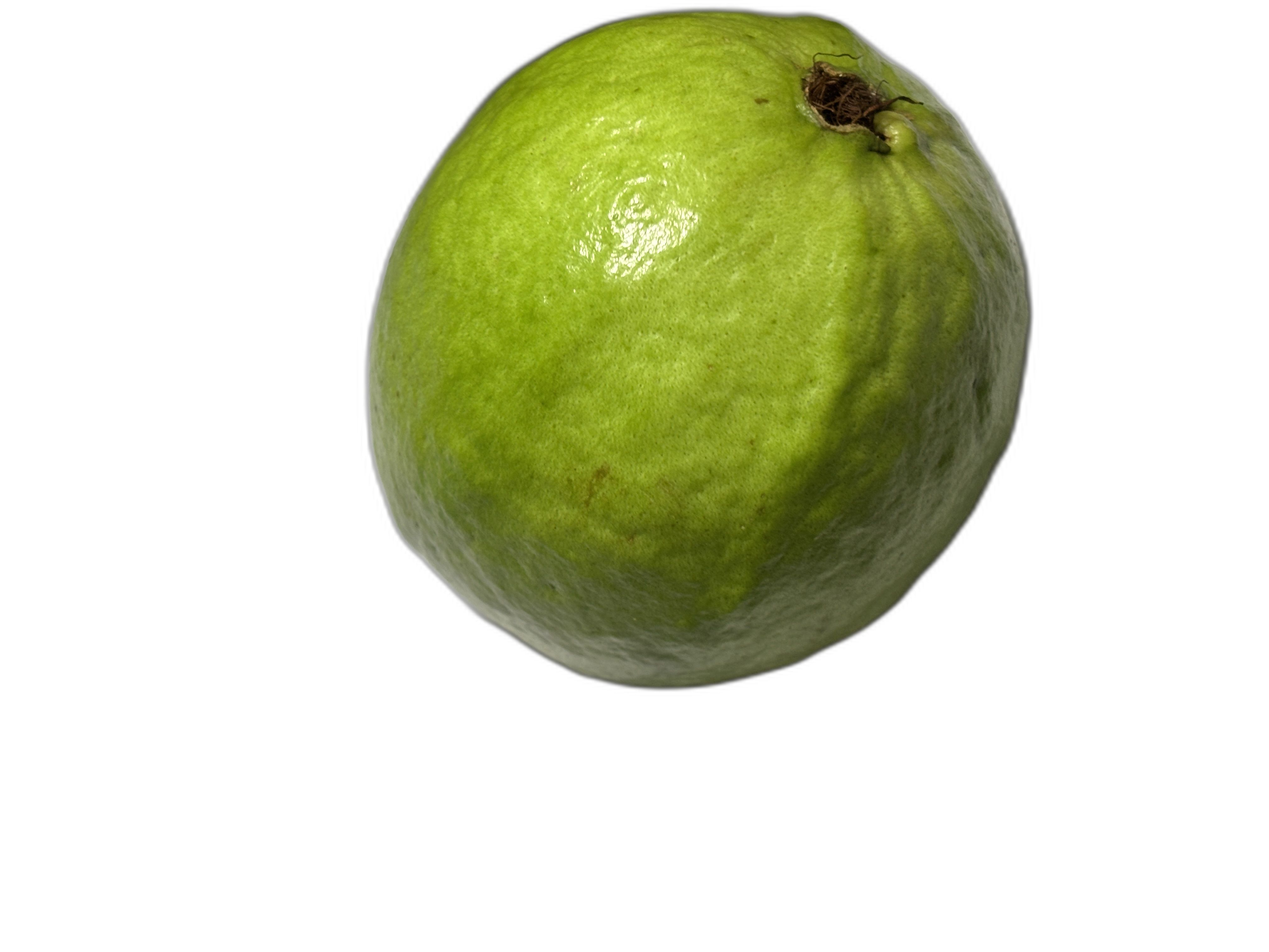guava: (115, 45, 931, 894)
